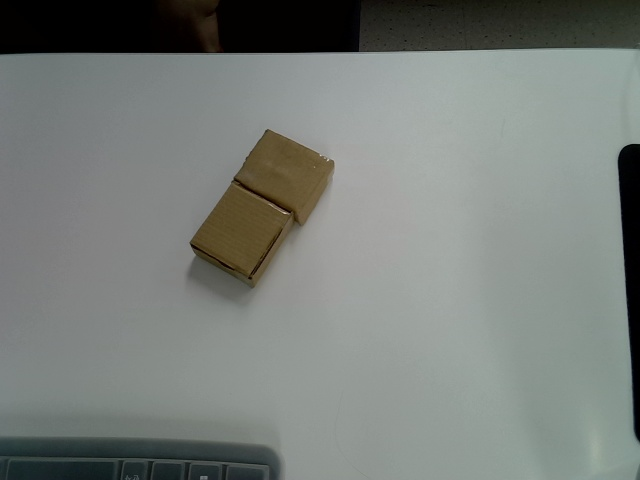normal: (189, 181, 292, 289), (234, 129, 335, 226)
